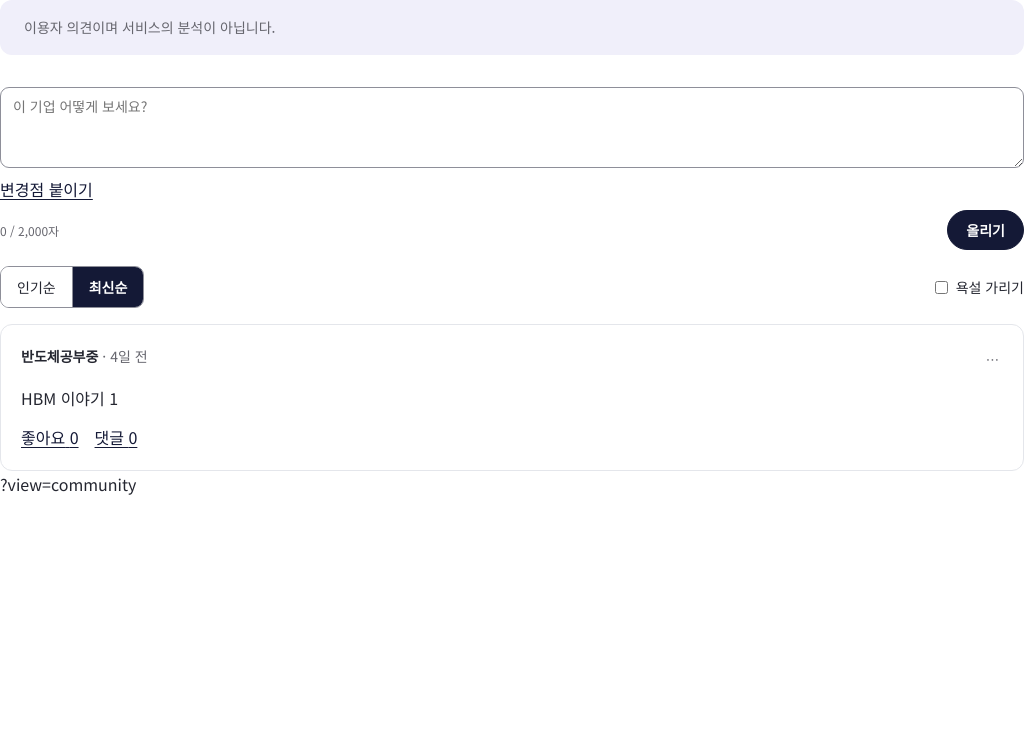
it: 글에 붙인 변경점(#464) › 문장 변경을 골라 붙이면 미리보기가 보이고, 올리면 종류·분석·변경 ID만 보낸다
Expected: the text "HBM 이야기 1" is shown, [21, 386, 118, 410]
Click the button "변경점 붙이기" at {"x": 46, "y": 189}, box [0, 176, 93, 202]
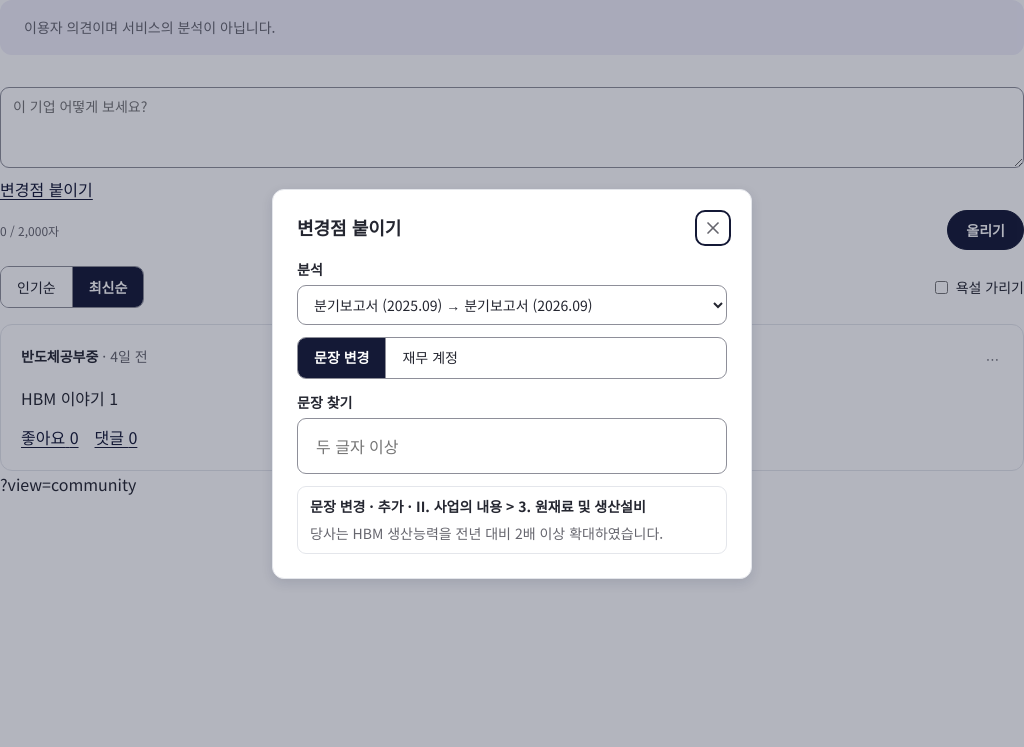
Click the button "원재료 및 생산설비" at {"x": 512, "y": 520}, box [297, 486, 727, 554]
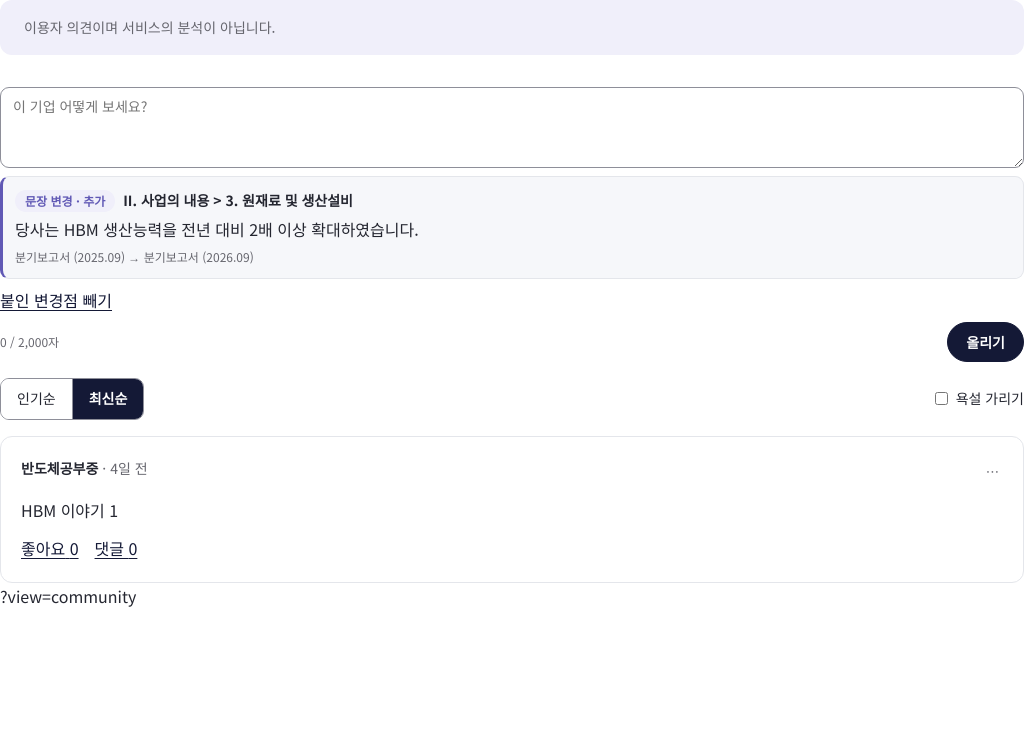
Result: the text "문장 변경 · 추가" is shown at [15, 190, 115, 212]
Result: the dialog is gone
Type "HBM 문장이 새로 들어갔네요." into the text box named "글쓰기" at {"x": 512, "y": 128}, box [0, 87, 1023, 168]
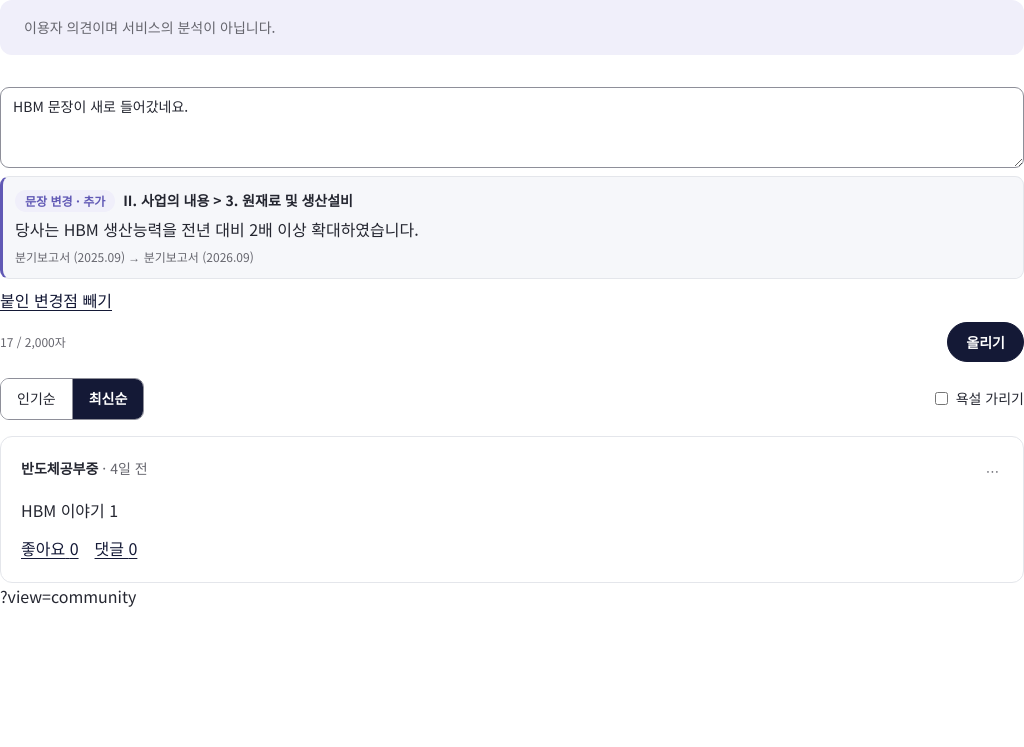
Click the button "올리기" at {"x": 986, "y": 342}, box [947, 322, 1023, 362]
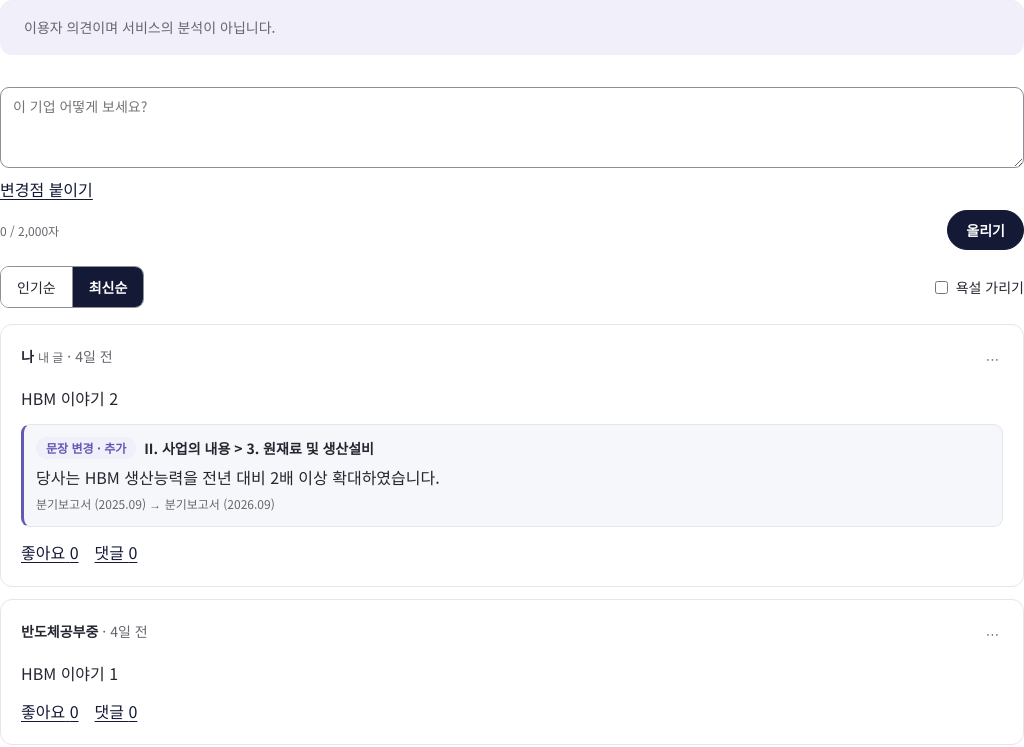
Result: the link with aria-label "분석 결과에서 보기" is shown at [21, 424, 1003, 527]
Result: the button "변경점 붙이기" is shown at [0, 176, 93, 202]
